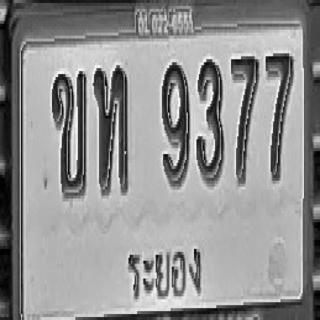A02: (52, 70, 86, 197)
A23: (94, 64, 128, 194)
N03: (196, 56, 224, 184)
N07: (230, 53, 259, 184), (266, 50, 293, 181)
N09: (162, 59, 189, 187)
P53: (121, 232, 207, 305)
